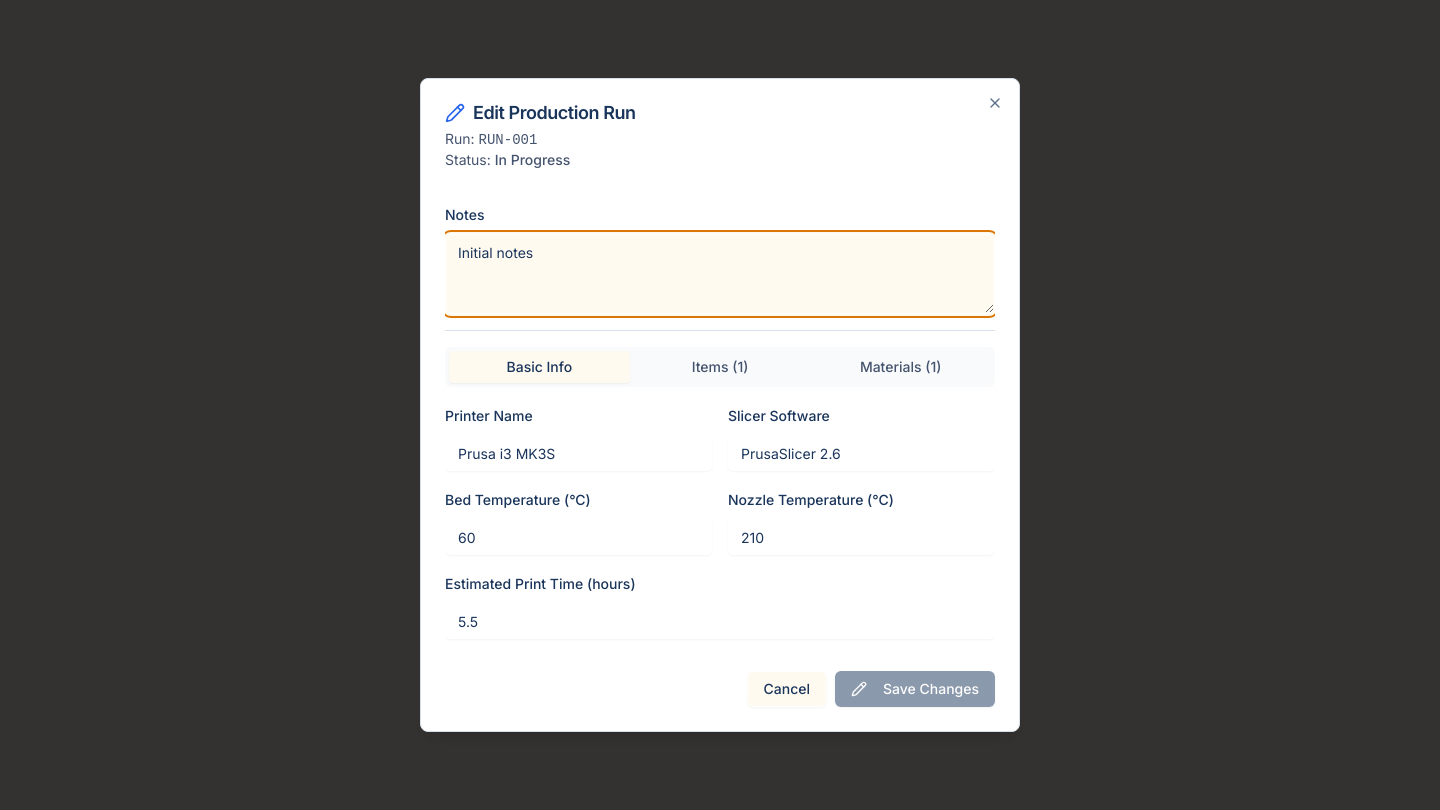
Test case: EditRunDialog › Change Detection › should enable Save button when notes changed
The width and height of the screenshot is (1440, 810).
Replace the text in the text box labelled "Notes" with "Updated notes" at (720,274), box [445,234,995,314]
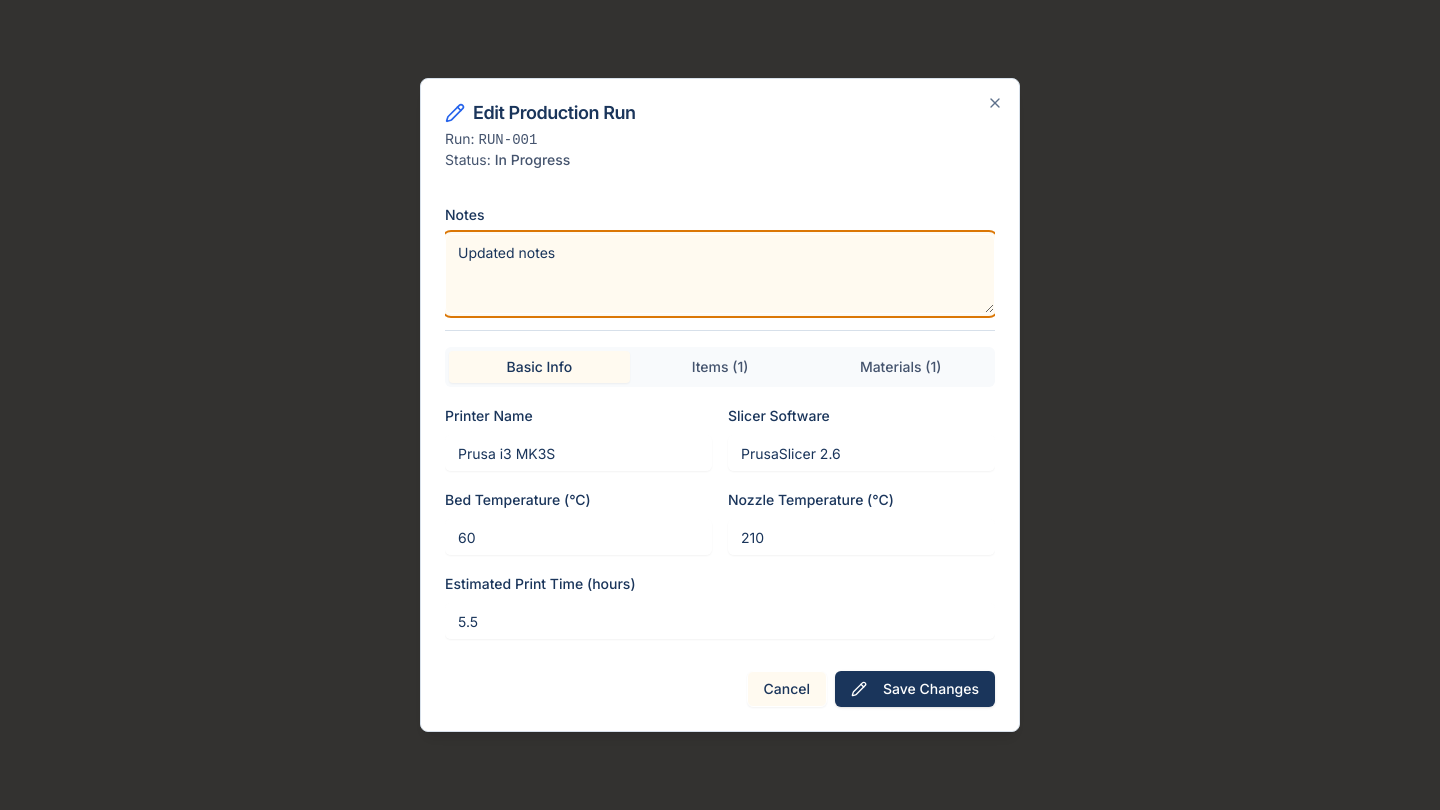
Expected: the button "Save Changes" is enabled, [835,671,995,707]
